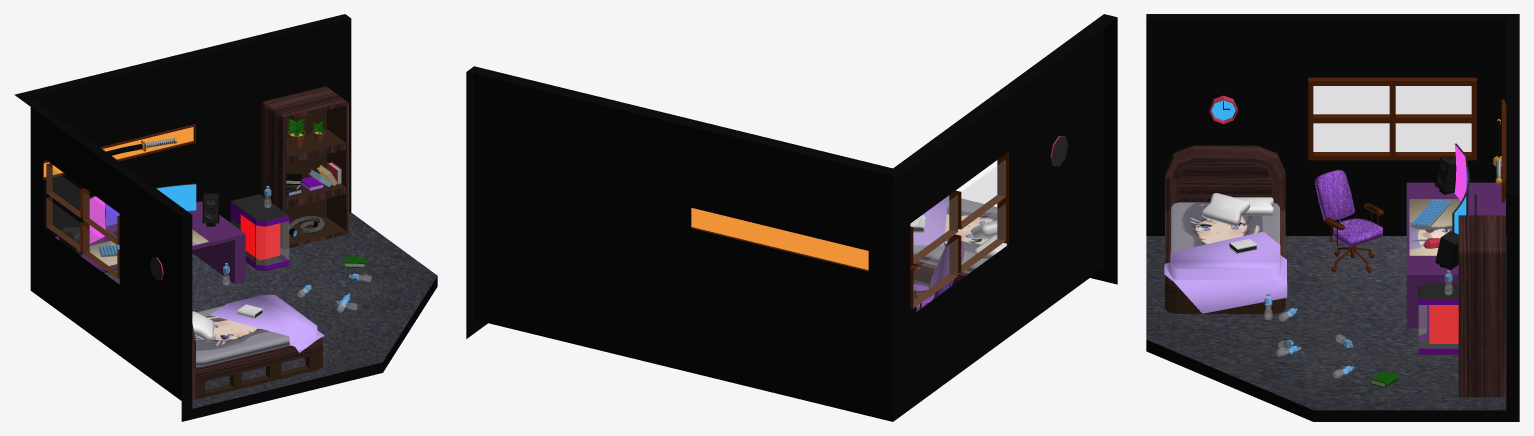
The picture shows the model from 3 angles, left to right: view 1: azimuth 30°, elevation 25°; view 2: azimuth 150°, elevation 25°; view 3: azimuth 270°, elevation 25°; orthographic projection. The views are drawn at different scales.
Visible parts, largest first — view 1: 1Room_7, Bookshelf_36, Bed_24, Case1_10, Table_6, BedU_25, blanket_26, Monitors_4, CaseLight_11, LowSpeaker_12, Torus_39, Pillow.001_28 (+3 smaller); view 2: 1Room_7, BedU_25, blanket_26, LowPillow.001_16; view 3: 1Room_7, Bookshelf_36, Bed_24, blanket_26, Table_6, BedU_25, Case1_10, MousePad_8, LowPillow.001_16, CaseLight_11, Pillow.001_28, LowSeat.001_15 (+6 smaller).
Part boxes in pixels (x1,y1,x2,y2): 1Room_7: (14, 14, 437, 421); Bookshelf_36: (261, 86, 349, 249); Bed_24: (192, 324, 322, 400); Case1_10: (230, 194, 289, 270); Table_6: (55, 201, 245, 284); BedU_25: (195, 305, 289, 367); blanket_26: (210, 294, 324, 352); Monitors_4: (89, 183, 196, 243); CaseLight_11: (240, 214, 280, 260); LowSpeaker_12: (202, 193, 219, 226); Torus_39: (287, 216, 324, 236); Pillow.001_28: (192, 311, 214, 341); 1Room_7: (466, 14, 1117, 421); BedU_25: (913, 195, 997, 273); blanket_26: (913, 196, 948, 245); LowPillow.001_16: (930, 239, 964, 296); 1Room_7: (1146, 14, 1519, 421); Bookshelf_36: (1458, 215, 1505, 397); Bed_24: (1165, 145, 1285, 313); blanket_26: (1164, 231, 1287, 313); Table_6: (1406, 182, 1505, 328); BedU_25: (1171, 202, 1279, 251); Case1_10: (1418, 283, 1458, 354); MousePad_8: (1409, 199, 1460, 255); LowPillow.001_16: (1315, 170, 1354, 220); CaseLight_11: (1429, 305, 1458, 343); Pillow.001_28: (1201, 193, 1250, 225); LowSeat.001_15: (1333, 218, 1382, 246).
Bounding box in the file's own units: 30.26 × 17.87 × 26.53.
Materials: 36 (10 with a texture image).
